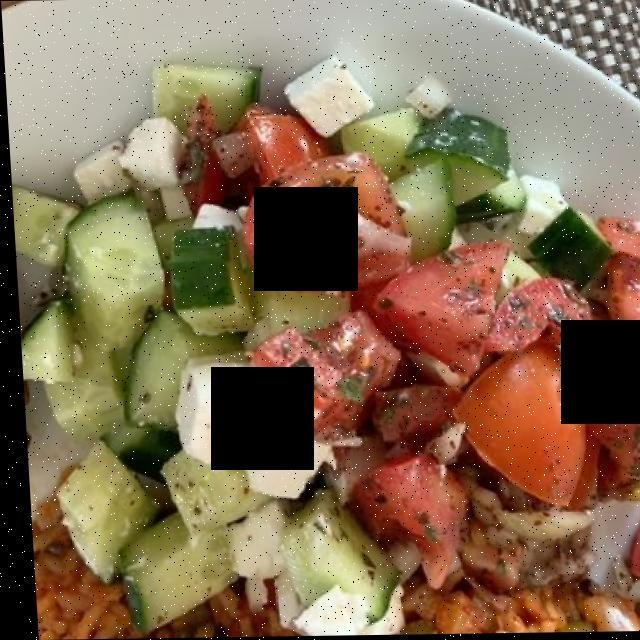salad: (21, 74, 640, 634)
